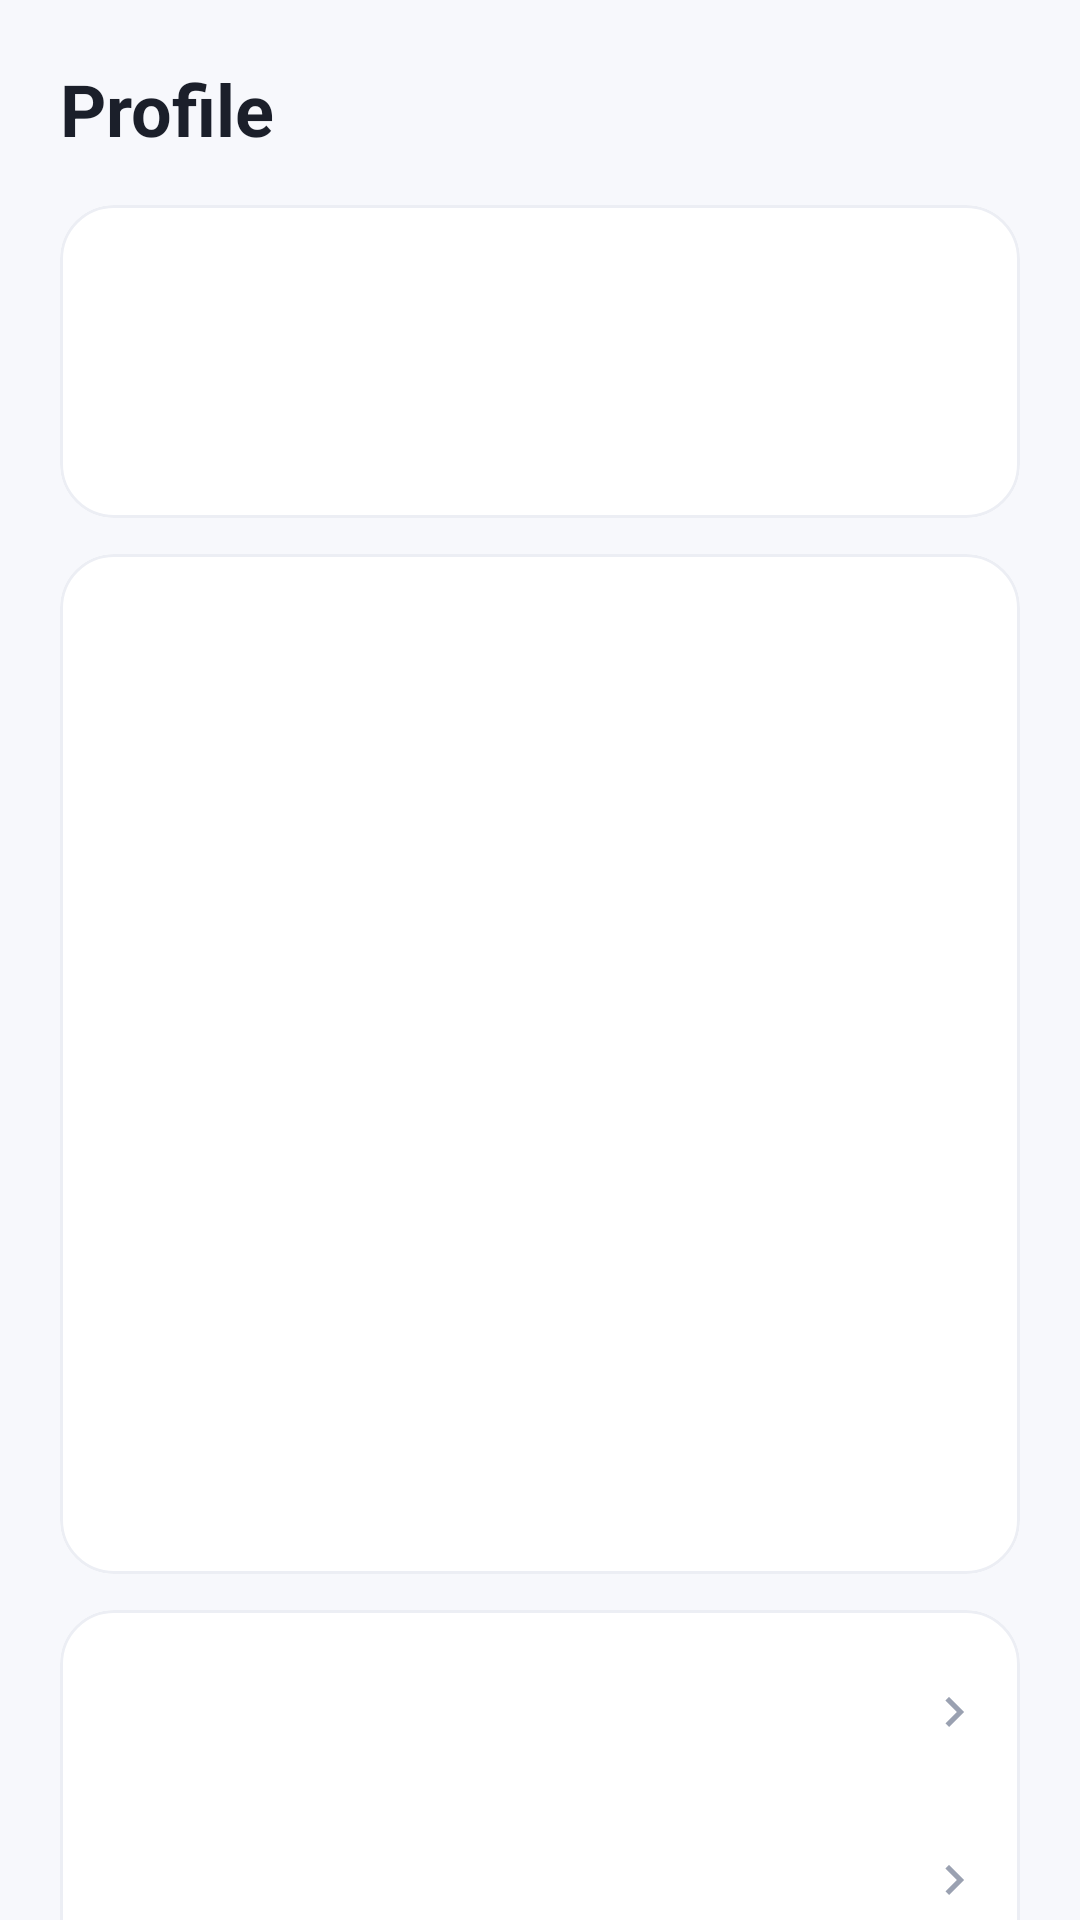

Named icons in this screenshot (1080*1920) and their centers, point (x, y):
chevron right: point (954, 1712), point (954, 1880)
